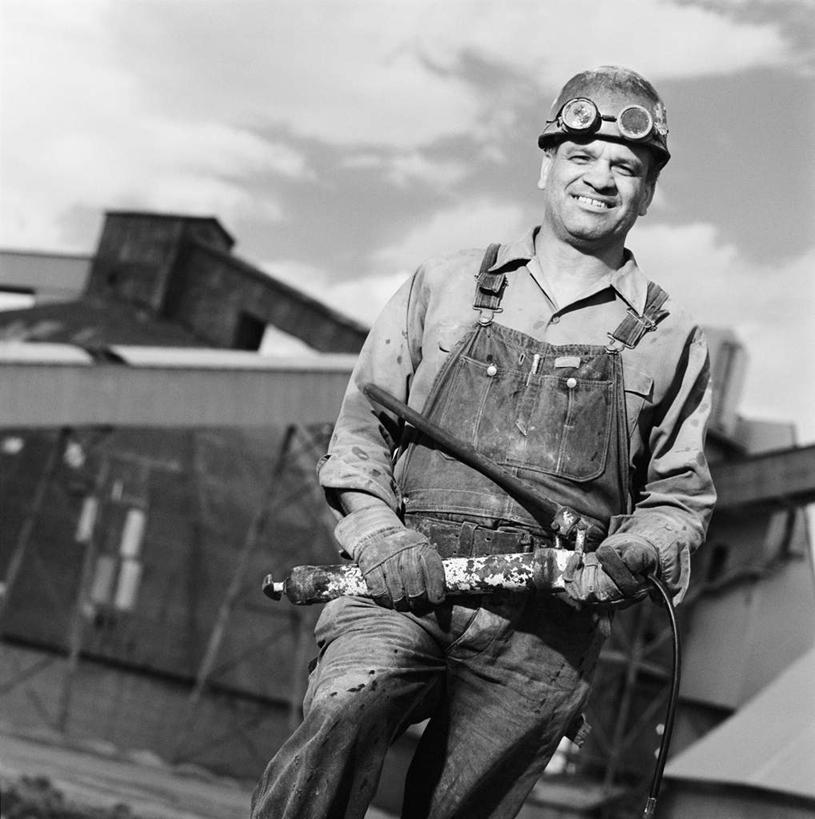helmet: (535, 60, 678, 164)
